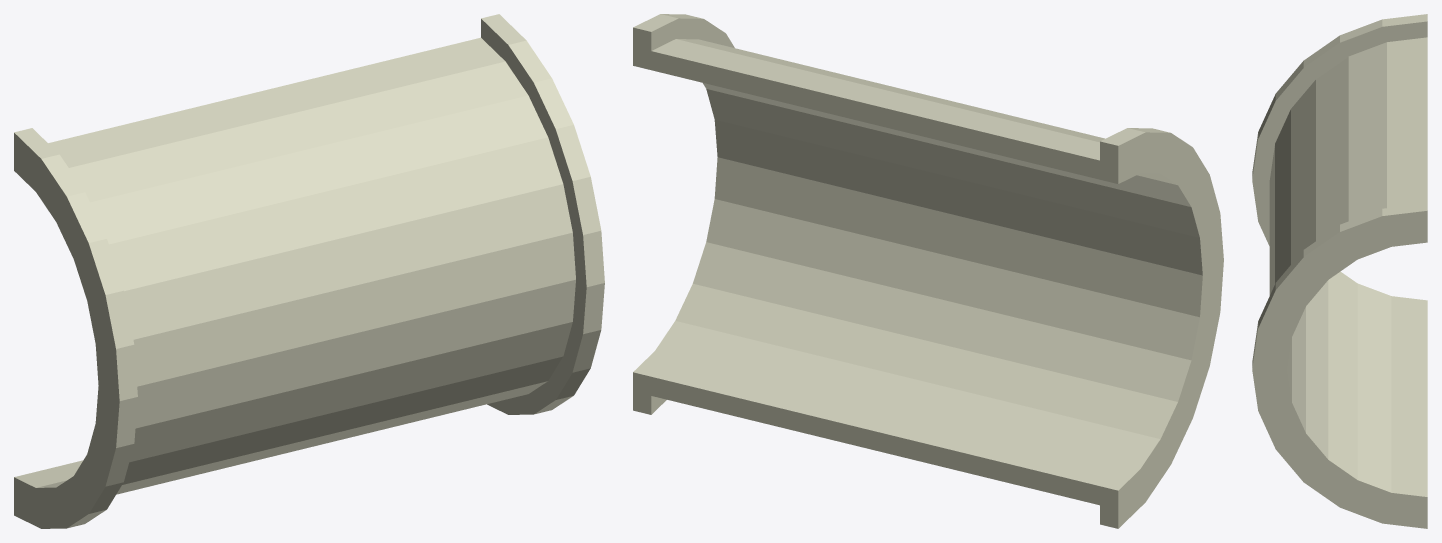
Rendered from section_086.obj.
The picture shows the model from 3 angles, left to right: view 1: azimuth 30°, elevation 25°; view 2: azimuth 150°, elevation 25°; view 3: azimuth 270°, elevation 25°; orthographic projection. The views are drawn at different scales.
Bounding box in the file's own units: 26.52 × 20 × 10.
